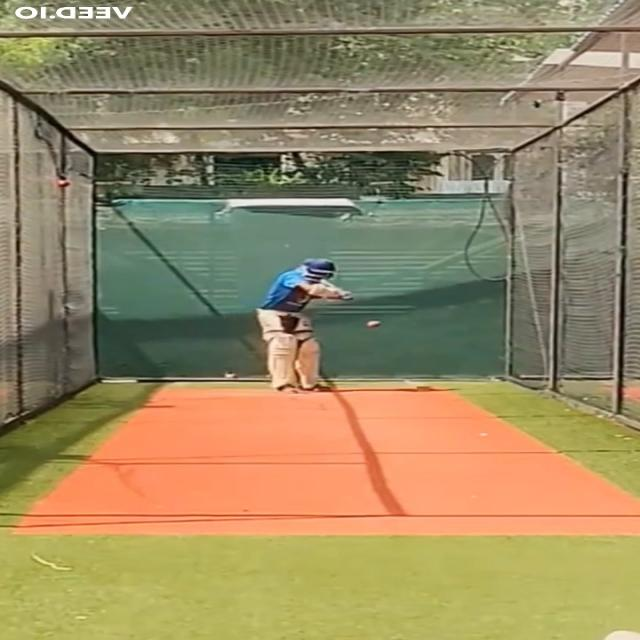ball: (365, 319, 384, 330)
